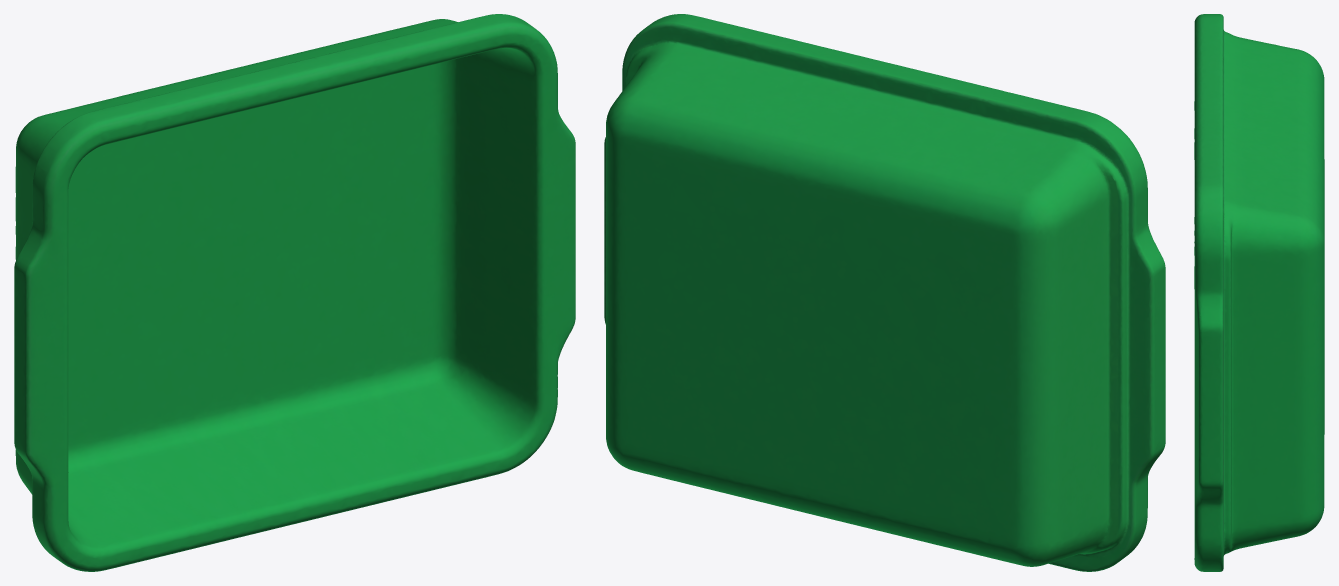
Rendered from bin.obj.
The picture shows the model from 3 angles, left to right: view 1: azimuth 30°, elevation 25°; view 2: azimuth 150°, elevation 25°; view 3: azimuth 270°, elevation 25°; orthographic projection. The views are drawn at different scales.
Parts seen in each view (by area): view 1: bin; view 2: bin; view 3: bin.
Boxes of the visible parts, x1,y1,x2,y2 form: bin: [14, 14, 575, 571]; bin: [604, 14, 1165, 571]; bin: [1194, 14, 1324, 571].
Size of the model in its own units: 0.357 by 0.2797 by 0.0859.
Materials: 1 (1 with a texture image).
